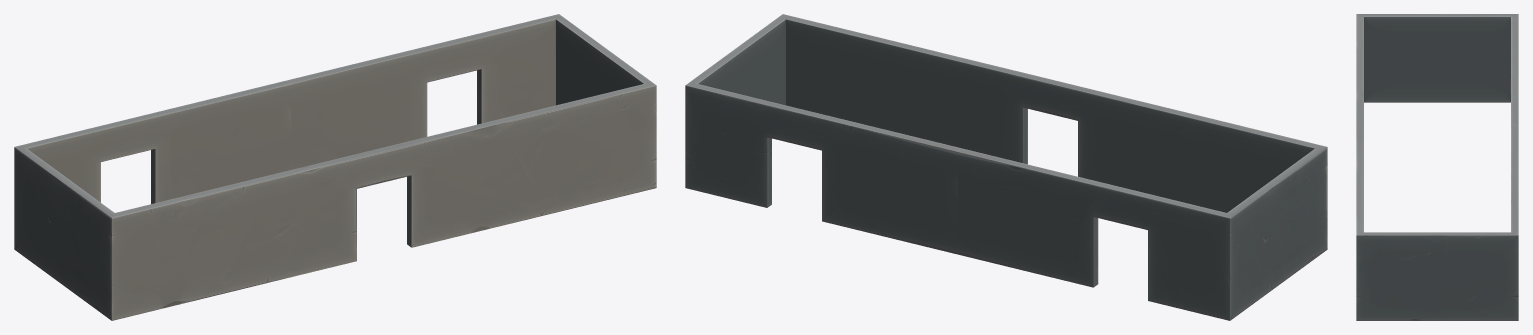
The model's file is BakedLightModelWallfbx.fbx.
3 views of the same model, side by side, from view 1: azimuth 30°, elevation 25°; view 2: azimuth 150°, elevation 25°; view 3: azimuth 270°, elevation 25° (orthographic). The views are drawn at different scales.
Visible parts, largest first — view 1: Low_House_Walls_Retry; view 2: Low_House_Walls_Retry; view 3: Low_House_Walls_Retry.
Part boxes in pixels (x1,y1,x2,y2): Low_House_Walls_Retry: [14, 14, 656, 320]; Low_House_Walls_Retry: [685, 14, 1327, 320]; Low_House_Walls_Retry: [1356, 14, 1518, 320].
Bounding box in the file's own units: 2000 × 360 × 621.
1 material, 1 textured.
